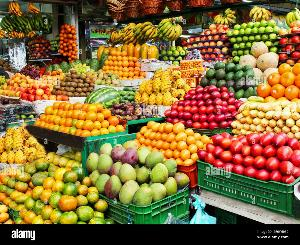apple: (166, 86, 244, 131), (231, 18, 283, 60), (182, 23, 228, 57), (278, 20, 300, 66), (162, 44, 189, 64)
avocado: (199, 60, 257, 98)
banana: (106, 20, 182, 46), (1, 12, 56, 38)
figs: (114, 99, 160, 121)
kiwi: (52, 74, 96, 100)
mango: (76, 144, 190, 206)
orange: (35, 102, 123, 136), (258, 59, 300, 98), (99, 49, 146, 83), (55, 24, 79, 64)
pomegranate: (198, 125, 300, 186)
